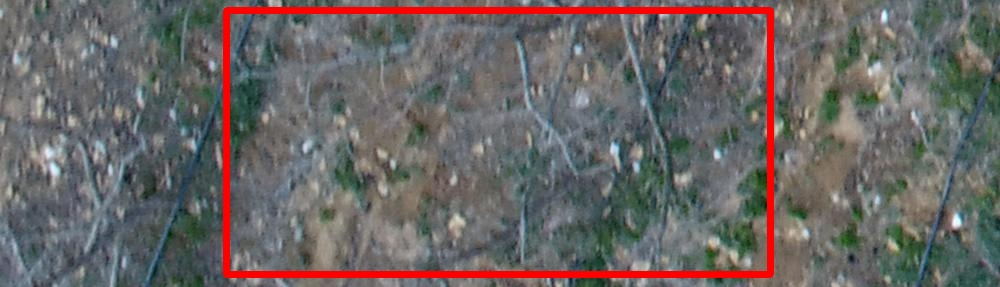apple: (226, 10, 770, 274)
